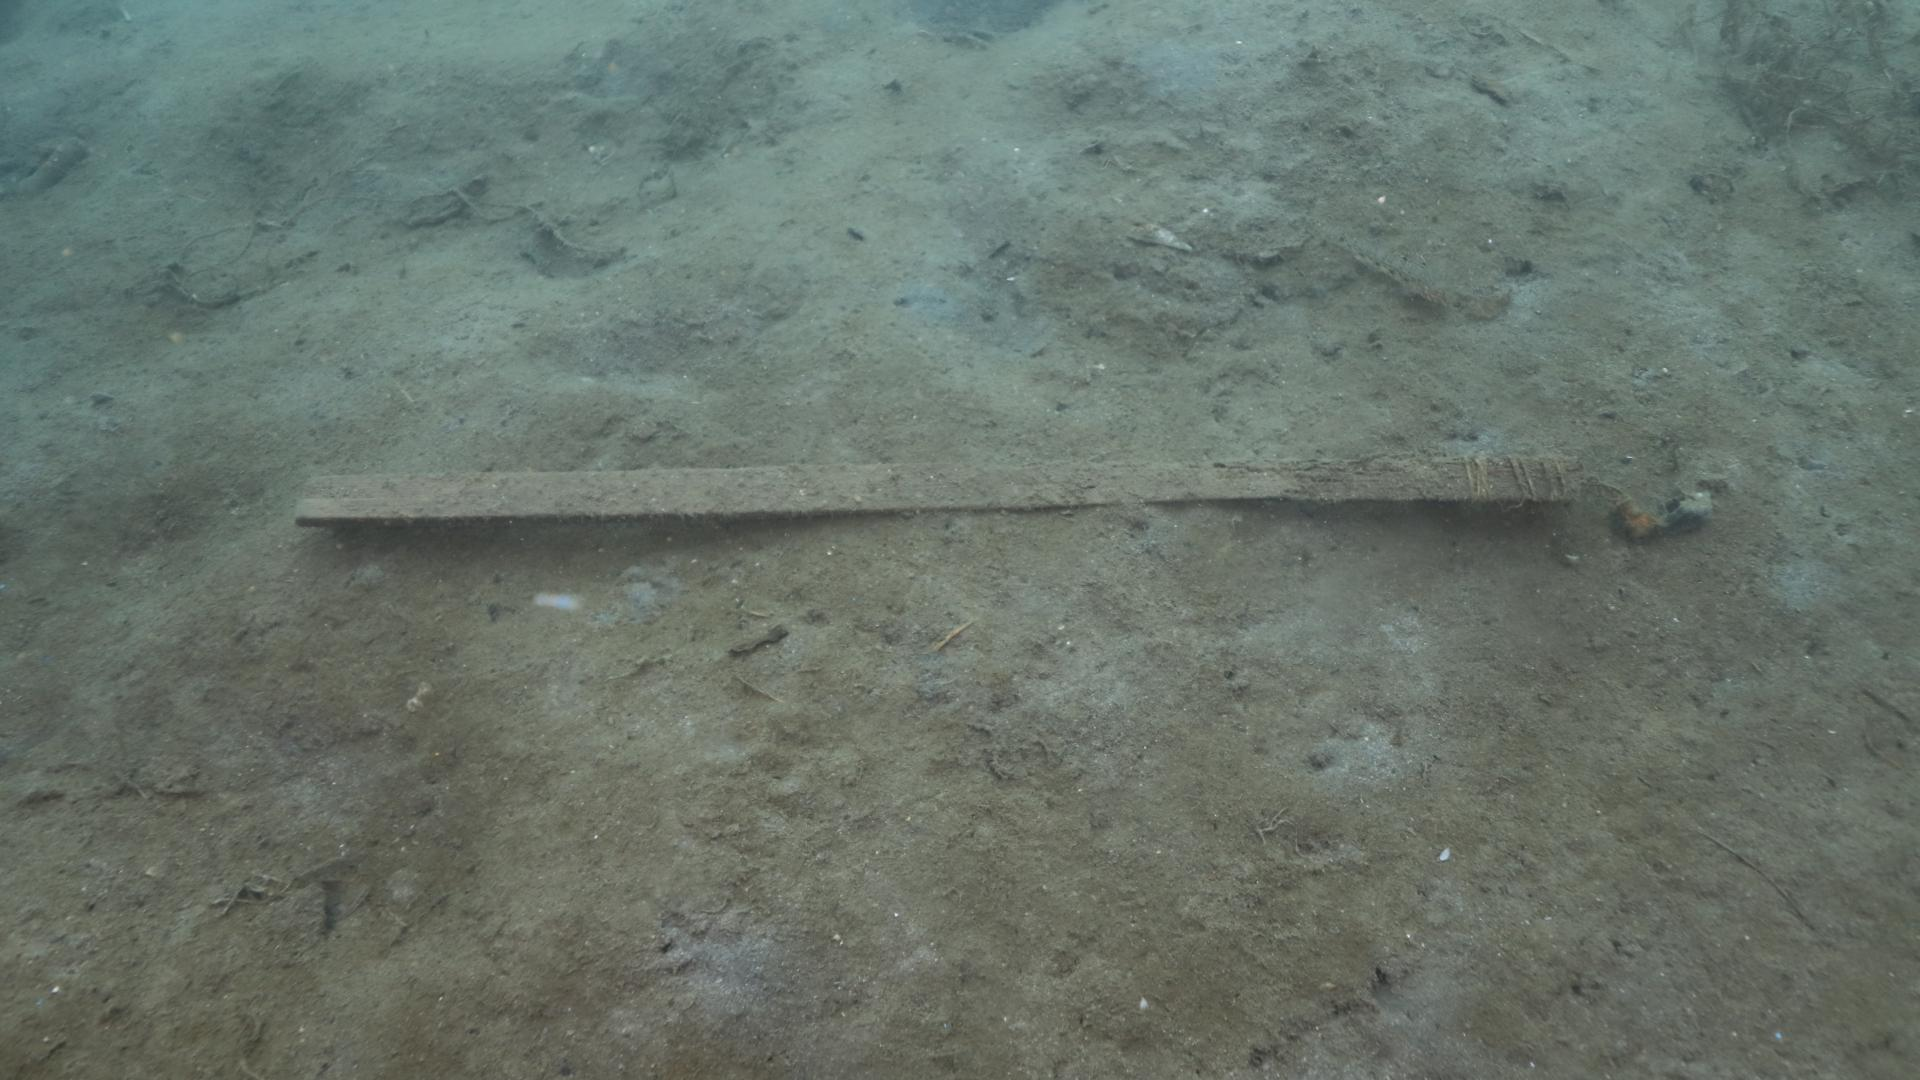wood: (291, 450, 1575, 537)
